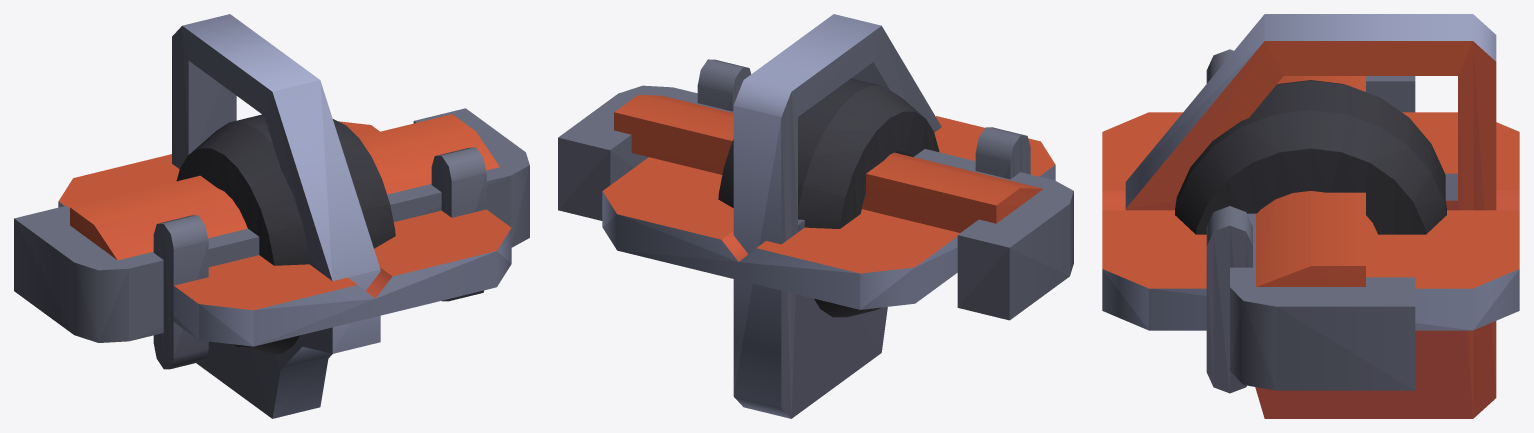
The model's file is debris.glb.
The picture shows the model from 3 angles, left to right: view 1: azimuth 30°, elevation 25°; view 2: azimuth 150°, elevation 25°; view 3: azimuth 270°, elevation 25°; orthographic projection. The views are drawn at different scales.
Visible parts, largest first — view 1: debris_door, debris_bumper, debris_plate_a, debris_spoiler_a, debris_tire; view 2: debris_door, debris_plate_a, debris_bumper, debris_spoiler_a, debris_tire; view 3: debris_door, debris_plate_a, debris_bumper, debris_tire, debris_spoiler_a.
Boxes of the visible parts, box(x1,y1,x2,y2) form: debris_door: box(172, 14, 380, 418); debris_bumper: box(14, 108, 529, 369); debris_plate_a: box(58, 121, 511, 346); debris_spoiler_a: box(70, 114, 499, 260); debris_tire: box(176, 114, 395, 353); debris_door: box(733, 14, 941, 418); debris_plate_a: box(602, 116, 1055, 309); debris_bumper: box(558, 59, 1073, 320); debris_spoiler_a: box(614, 95, 1043, 232); debris_tire: box(718, 78, 939, 317); debris_door: box(1125, 14, 1496, 418); debris_plate_a: box(1102, 112, 1519, 330); debris_bumper: box(1206, 49, 1415, 393); debris_tire: box(1175, 80, 1446, 234); debris_spoiler_a: box(1256, 76, 1365, 286).
Size of the model in its own units: 1.95 by 1.35 by 1.35.
